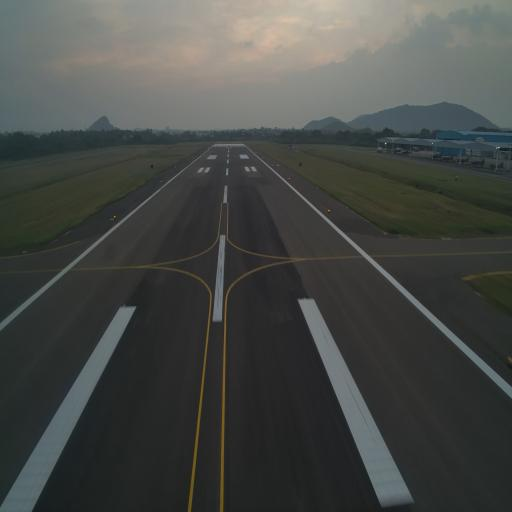on: (112, 213, 117, 220), (327, 208, 331, 214)
